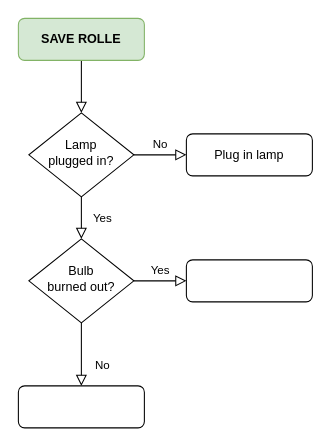
The diagram is 331 pixels wide and 446 high, and some of its shapes have lost their labels. Here are the shapes that lost their labels. From the top down, the box of each, then its label:
(185, 259, 312, 302): Replace Bulb
(17, 385, 144, 428): Repair Lamp
